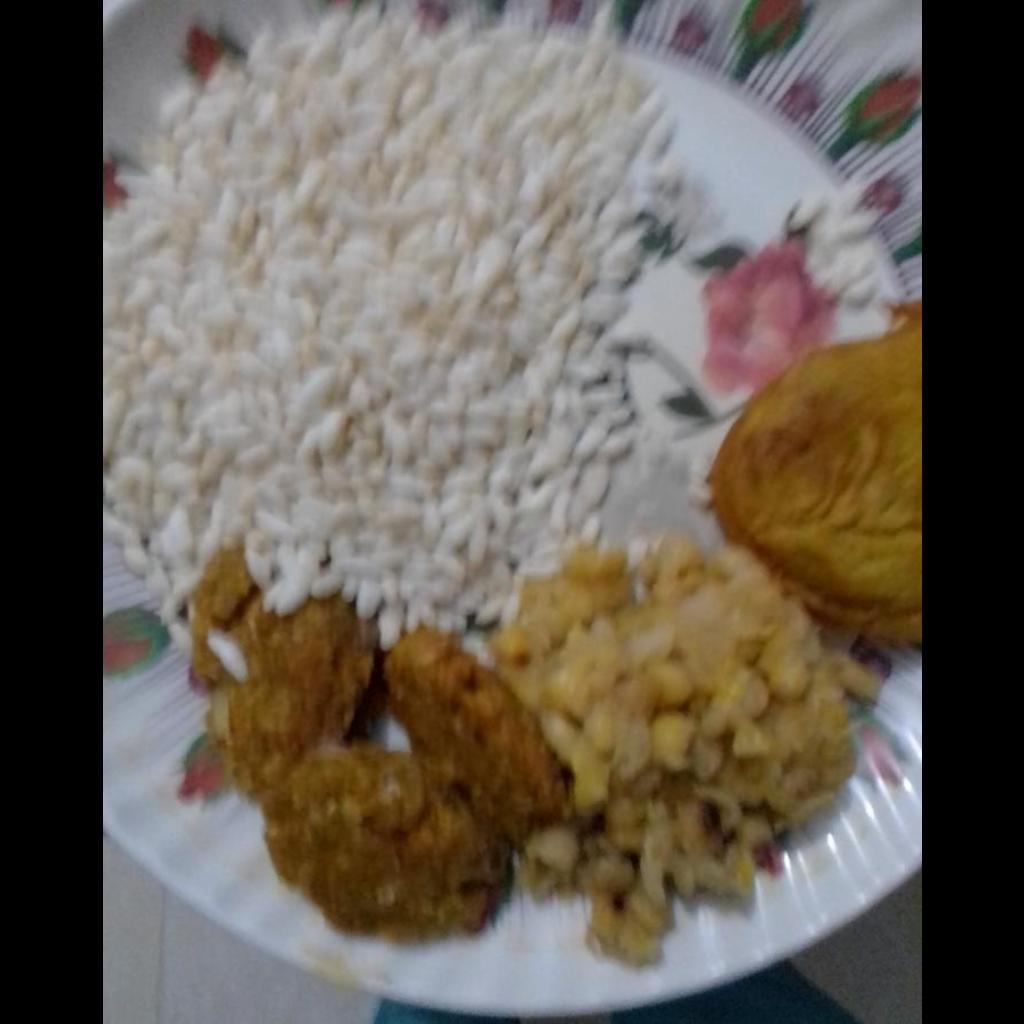chop-alu: (710, 306, 920, 655)
daal: (488, 537, 876, 965)
peyaju: (191, 608, 562, 944)
puffed-rice: (102, 34, 664, 598)
